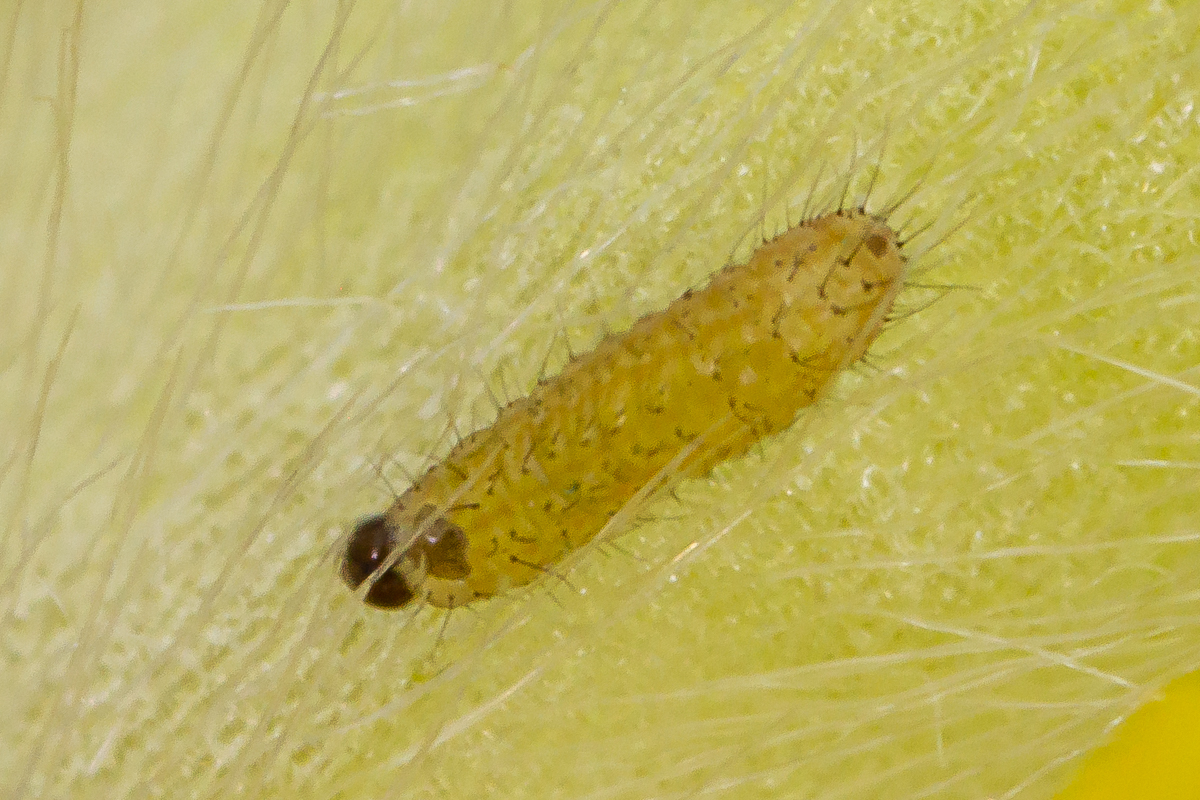Caterpillar: (338, 208, 912, 623)
